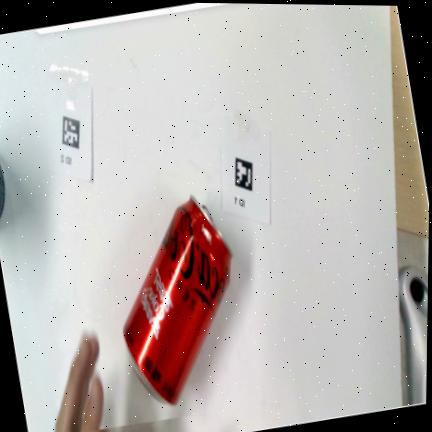can_coke_zero: (124, 195, 233, 403)
